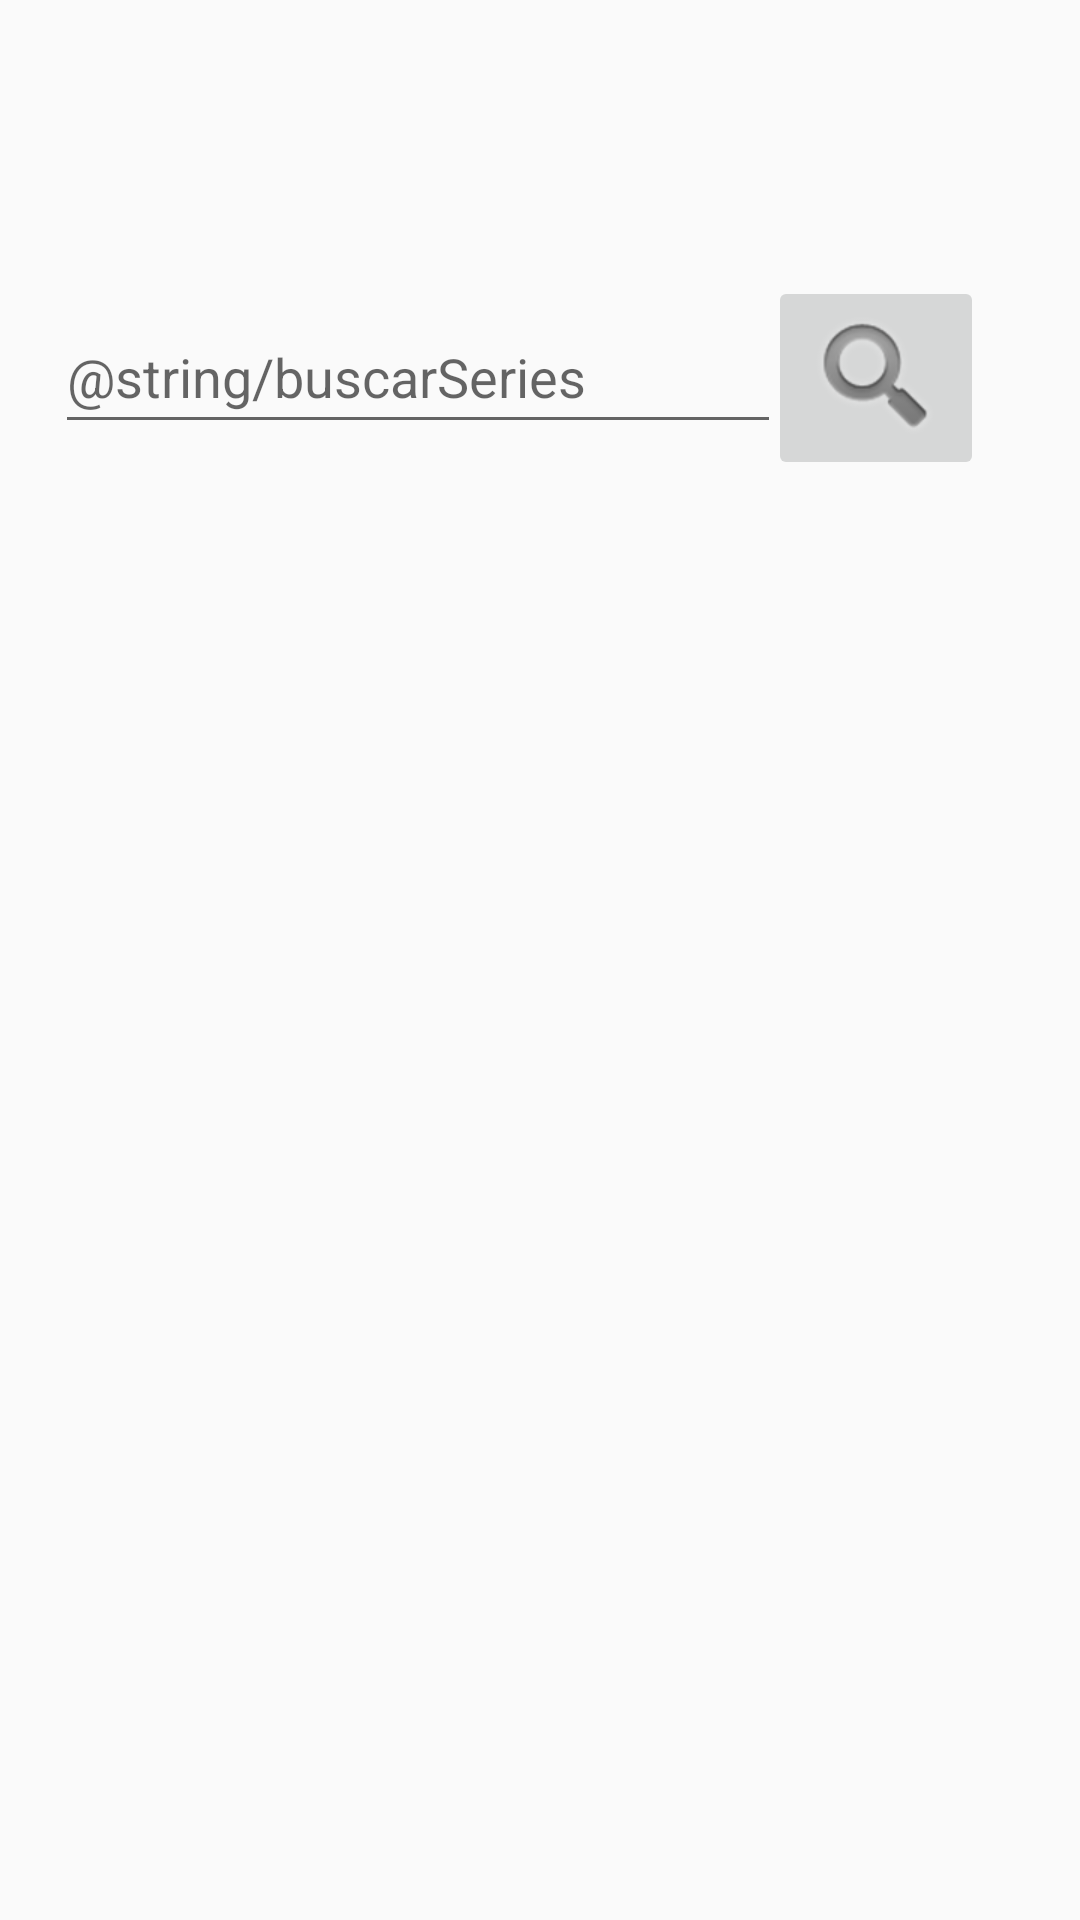

Where to tap for icons on this 1080x1920 app screen, as (x=x, y=y):
search category: (x=876, y=378)
